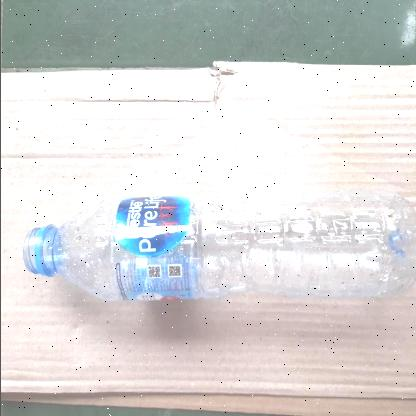Plastic Bottle: (22, 186, 416, 300)
